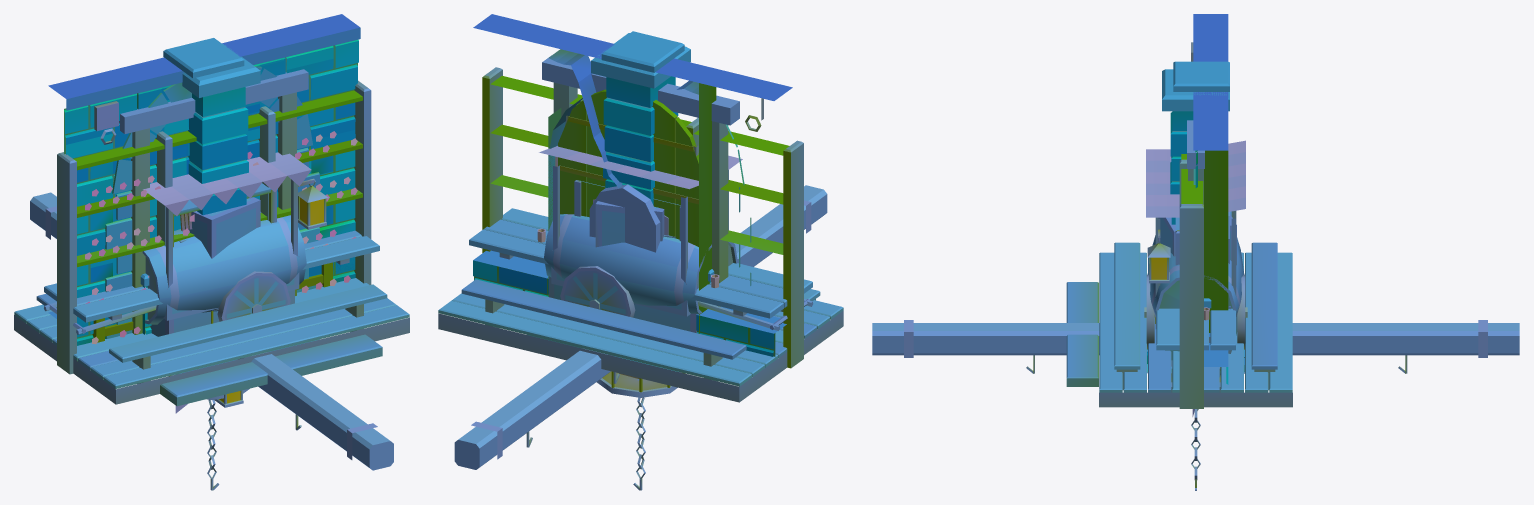
File: kit_cellars.glb
The picture shows the model from 3 angles, left to right: view 1: azimuth 30°, elevation 25°; view 2: azimuth 150°, elevation 25°; view 3: azimuth 270°, elevation 25°; orthographic projection. The views are drawn at different scales.
Parts seen in each view (by area): view 1: cel_door_arch, cel_dais, cel_wall_shelf, cel_table_long, cel_merchant_cart, cel_cask_large, cel_pillar_brick, cel_beam_timber, cel_gallows_beam, cel_door_secret, cel_crate_stack, cel_wall_brick_2m (+6 smaller); view 2: cel_dais, cel_table_long, cel_wall_shelf, cel_beam_timber, cel_cask_large, cel_door_wood.leaf, cel_merchant_cart, cel_pillar_brick, cel_gallows_beam, cel_door_arch, cel_door_arch_cut, cel_wall_brick_2m (+7 smaller); view 3: cel_dais, cel_beam_timber, cel_table_long, cel_wall_shelf, cel_merchant_cart, cel_wall_brick_2m, cel_door_arch, cel_pillar_brick, cel_cask_large, cel_wall_corner_in, cel_gallows_beam, cel_crate_stack.
Part boxes in pixels (x1=…): cel_door_arch: x1=48, y1=14, x2=360, y2=345; cel_dais: x1=14, y1=278, x2=409, y2=406; cel_wall_shelf: x1=57, y1=80, x2=371, y2=374; cel_table_long: x1=36, y1=230, x2=387, y2=383; cel_merchant_cart: x1=44, y1=152, x2=328, y2=334; cel_cask_large: x1=142, y1=212, x2=306, y2=324; cel_pillar_brick: x1=182, y1=44, x2=260, y2=215; cel_beam_timber: x1=30, y1=192, x2=393, y2=470; cel_gallows_beam: x1=119, y1=69, x2=308, y2=334; cel_door_secret: x1=66, y1=46, x2=355, y2=324; cel_crate_stack: x1=150, y1=197, x2=294, y2=336; cel_wall_brick_2m: x1=123, y1=32, x2=286, y2=216; cel_dais: x1=438, y1=293, x2=843, y2=402; cel_table_long: x1=461, y1=208, x2=820, y2=381; cel_wall_shelf: x1=482, y1=67, x2=803, y2=368; cel_beam_timber: x1=454, y1=185, x2=827, y2=469; cel_cask_large: x1=544, y1=214, x2=737, y2=314; cel_door_wood.leaf: x1=558, y1=89, x2=698, y2=246; cel_merchant_cart: x1=539, y1=146, x2=813, y2=330; cel_pillar_brick: x1=591, y1=33, x2=690, y2=205; cel_gallows_beam: x1=542, y1=55, x2=739, y2=306; cel_door_arch: x1=473, y1=14, x2=792, y2=296; cel_door_arch_cut: x1=473, y1=250, x2=786, y2=356; cel_wall_brick_2m: x1=549, y1=33, x2=716, y2=333; cel_dais: x1=1066, y1=252, x2=1292, y2=407; cel_beam_timber: x1=872, y1=320, x2=1519, y2=373; cel_table_long: x1=1114, y1=211, x2=1277, y2=392; cel_wall_shelf: x1=1179, y1=154, x2=1203, y2=408; cel_merchant_cart: x1=1144, y1=140, x2=1247, y2=349; cel_wall_brick_2m: x1=1193, y1=48, x2=1228, y2=370; cel_door_arch: x1=1193, y1=14, x2=1228, y2=372; cel_pillar_brick: x1=1162, y1=69, x2=1229, y2=224; cel_cask_large: x1=1147, y1=235, x2=1244, y2=316; cel_wall_corner_in: x1=1173, y1=61, x2=1229, y2=91; cel_gallows_beam: x1=1171, y1=120, x2=1220, y2=376; cel_crate_stack: x1=1158, y1=214, x2=1237, y2=366.
Bounding box in the file's own units: 4.1 × 5.67 × 8.
